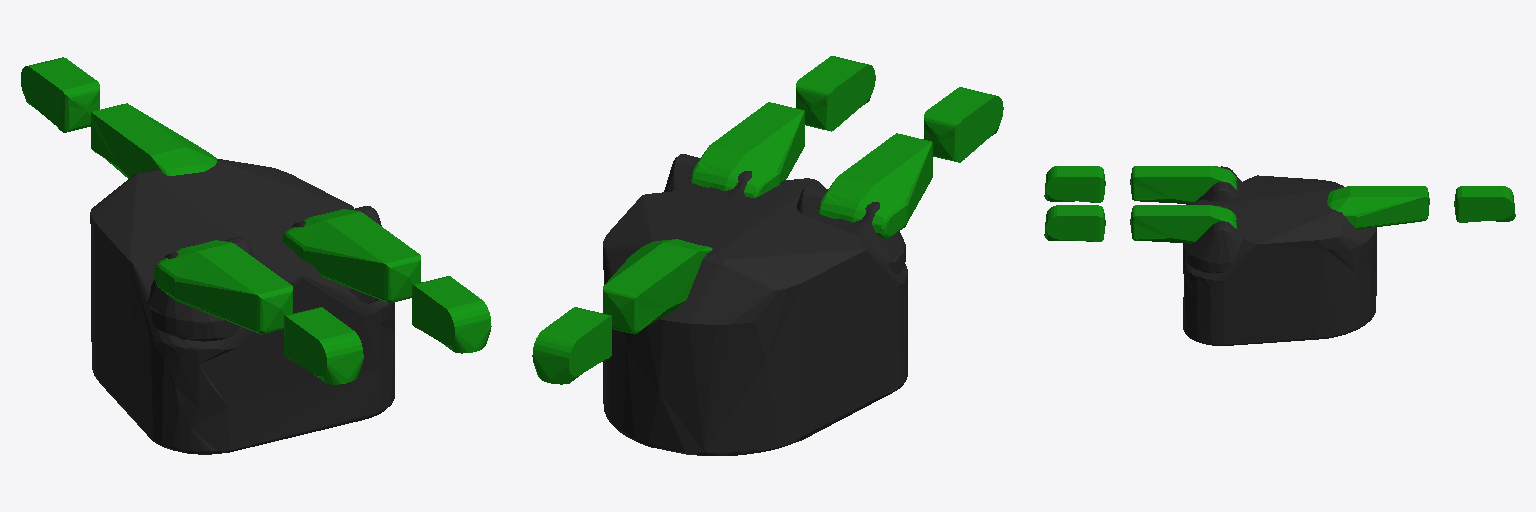
URDF robot description (irobot_hand_left):
<?xml version="1.0" ?>
<!-- =================================================================================== -->
<!-- |    This document was autogenerated by xacro from irobot_hand_drake_left.urdf.xacro | -->
<!-- |    EDITING THIS FILE BY HAND IS NOT RECOMMENDED                                 | -->
<!-- =================================================================================== -->
<robot name="irobot_hand_left" xmlns:controller="http://playerstage.sourceforge.net/gazebo/xmlschema/#controller" xmlns:interface="http://playerstage.sourceforge.net/gazebo/xmlschema/#interface" xmlns:sensor="http://playerstage.sourceforge.net/gazebo/xmlschema/#sensor" xmlns:xacro="http://www.ros.org/wiki/xacro">
  <!--  <include filename="$(find handle_description)/src/irobot_hand_simple.urdf.xacro" />-->
  <link name="base">
    <inertial>
      <mass value="0.1"/>
      <origin rpy="0 0 0" xyz="0 0 0.25"/>
      <inertia ixx="0.01" ixy="0" ixz="0" iyy="0.01" iyz="0" izz="0.01"/>
    </inertial>
  </link>
  <joint name="left_finger[0]/joint_flex" type="revolute">
    <parent link="left_finger[0]/proximal_link"/>
    <child link="left_finger[0]/distal_link"/>
    <origin xyz="0 0 0.078"/>
    <axis xyz="-1 0 0"/>
    <limit effort="1000.0" lower="0.0" upper="1.57" velocity="0.5"/>
  </joint>
  <joint name="left_finger[1]/joint_flex" type="revolute">
    <parent link="left_finger[1]/proximal_link"/>
    <child link="left_finger[1]/distal_link"/>
    <origin xyz="0 0 0.078"/>
    <axis xyz="-1 0 0"/>
    <limit effort="1000.0" lower="0.0" upper="1.57" velocity="0.5"/>
  </joint>
  <joint name="left_finger[2]/joint_flex" type="revolute">
    <parent link="left_finger[2]/proximal_link"/>
    <child link="left_finger[2]/distal_link"/>
    <origin xyz="0 0 0.078"/>
    <axis xyz="-1 0 0"/>
    <limit effort="1000.0" lower="0.0" upper="1.57" velocity="0.5"/>
  </joint>
  <joint name="left_irobot_hand_joint" type="fixed">
    <origin rpy="0 0 3.14159" xyz="0 0.05 0"/>
    <parent link="base"/>
    <child link="left_base_link"/>
  </joint>
  <link name="left_base_link">
    <inertial>
      <mass value="0.1"/>
      <origin xyz="0 0 0"/>
      <inertia ixx="0.001" ixy="0.0" ixz="0.0" iyy="0.001" iyz="0.0" izz="0.001"/>
    </inertial>
    <!--    <collision>-->
    <!--      <geometry>-->
    <!--        <mesh filename="package://handle_description/meshes/palm.stl"/>-->
    <!--      </geometry>-->
    <!--      <origin rpy="0 0 0" xyz="0 -0.038 -0.023"/>-->
    <!--    </collision>-->
    <collision>
      <origin rpy="0 0 0" xyz="0.0 0.012 0.083"/>
      <geometry>
        <sphere radius="0"/>
      </geometry>
    </collision>
    <collision>
      <origin rpy="0 0 0" xyz="0.0 -0.005 0.083"/>
      <geometry>
        <sphere radius="0"/>
      </geometry>
    </collision>
    <visual>
      <geometry>
        <mesh filename="package://handle_description/meshes/palm.stl"/>
      </geometry>
      <material name="darkgray">
        <color rgba="0.2 0.2 0.2 1"/>
      </material>
      <origin rpy="0 0 0" xyz="0 -0.038 -0.023"/>
    </visual>
  </link>
  <link name="left_finger[0]/base_rotation_link">
    <inertial>
      <mass value="0.1"/>
      <origin xyz="0 0 0"/>
      <inertia ixx="0.001" ixy="0.0" ixz="0.0" iyy="0.001" iyz="0.0" izz="0.001"/>
    </inertial>
    <!--    <collision>-->
    <!--      <geometry>-->
    <!--        <mesh filename="package://handle_description/meshes/finger_base.stl"/>-->
    <!--      </geometry>-->
    <!--      <origin rpy="${pi/2} 0 0" xyz="0 0 0"/>-->
    <!--    </collision>-->
    <visual>
      <geometry>
        <mesh filename="package://handle_description/meshes/finger_base.stl"/>
      </geometry>
      <material name="darkgray">
        <color rgba="0.2 0.2 0.2 1"/>
      </material>
      <origin rpy="1.57 0 0" xyz="0 0 0"/>
    </visual>
  </link>
  <link name="left_finger[0]/proximal_link">
    <inertial>
      <mass value="0.1"/>
      <origin xyz="0 0 0"/>
      <inertia ixx="0.001" ixy="0.0" ixz="0.0" iyy="0.001" iyz="0.0" izz="0.001"/>
    </inertial>
    <!--    <collision>-->
    <!--      <geometry>-->
    <!--        <mesh filename="package://handle_description/meshes/finger_proximal.stl"/>-->
    <!--      </geometry>-->
    <!--      <origin rpy="${pi/2} -${pi/2} 0" xyz="0 0 0"/>-->
    <!--    </collision>-->
    <collision>
      <origin rpy="0 0 0" xyz="0.0 0.01 0.034"/>
      <geometry>
        <sphere radius="0"/>
      </geometry>
    </collision>
    <collision>
      <origin rpy="0 0 0" xyz="0.0 0.01 0.051"/>
      <geometry>
        <sphere radius="0"/>
      </geometry>
    </collision>
    <visual>
      <geometry>
        <mesh filename="package://handle_description/meshes/finger_proximal.stl"/>
      </geometry>
      <material name="green">
        <color rgba="0.1 0.6 0.1 1"/>
      </material>
      <origin rpy="1.57 -1.57 0" xyz="0 0 0"/>
    </visual>
  </link>
  <link name="left_finger[0]/distal_link">
    <inertial>
      <mass value="0.1"/>
      <origin xyz="0 0 0"/>
      <inertia ixx="0.001" ixy="0.0" ixz="0.0" iyy="0.001" iyz="0.0" izz="0.001"/>
    </inertial>
    <!--    <collision>-->
    <!--      <geometry>-->
    <!--        <mesh filename="package://handle_description/meshes/finger_distal.stl"/>-->
    <!--      </geometry>-->
    <!--      <origin rpy="0 ${pi} 0" xyz="0 0 0"/>-->
    <!--    </collision>-->
    <collision>
      <origin rpy="0 0 0" xyz="0.0 0.01 0.02"/>
      <geometry>
        <sphere radius="0"/>
      </geometry>
    </collision>
    <visual>
      <geometry>
        <mesh filename="package://handle_description/meshes/finger_distal.stl"/>
      </geometry>
      <material name="green">
        <color rgba="0.1 0.6 0.1 1"/>
      </material>
      <origin rpy="0 3.14 0" xyz="0 0 0"/>
    </visual>
  </link>
  <link name="left_finger[1]/base_rotation_link">
    <inertial>
      <mass value="0.1"/>
      <origin xyz="0 0 0"/>
      <inertia ixx="0.001" ixy="0.0" ixz="0.0" iyy="0.001" iyz="0.0" izz="0.001"/>
    </inertial>
    <!--    <collision>-->
    <!--      <geometry>-->
    <!--        <mesh filename="package://handle_description/meshes/finger_base.stl"/>-->
    <!--      </geometry>-->
    <!--      <origin rpy="${pi/2} 0 0" xyz="0 0 0"/>-->
    <!--    </collision>-->
    <visual>
      <geometry>
        <mesh filename="package://handle_description/meshes/finger_base.stl"/>
      </geometry>
      <material name="darkgray">
        <color rgba="0.2 0.2 0.2 1"/>
      </material>
      <origin rpy="1.57 0 0" xyz="0 0 0"/>
    </visual>
  </link>
  <link name="left_finger[1]/proximal_link">
    <inertial>
      <mass value="0.1"/>
      <origin xyz="0 0 0"/>
      <inertia ixx="0.001" ixy="0.0" ixz="0.0" iyy="0.001" iyz="0.0" izz="0.001"/>
    </inertial>
    <!--    <collision>-->
    <!--      <geometry>-->
    <!--        <mesh filename="package://handle_description/meshes/finger_proximal.stl"/>-->
    <!--      </geometry>-->
    <!--      <origin rpy="${pi/2} -${pi/2} 0" xyz="0 0 0"/>-->
    <!--    </collision>-->
    <collision>
      <origin rpy="0 0 0" xyz="0.0 0.01 0.034"/>
      <geometry>
        <sphere radius="0"/>
      </geometry>
    </collision>
    <collision>
      <origin rpy="0 0 0" xyz="0.0 0.01 0.051"/>
      <geometry>
        <sphere radius="0"/>
      </geometry>
    </collision>
    <visual>
      <geometry>
        <mesh filename="package://handle_description/meshes/finger_proximal.stl"/>
      </geometry>
      <material name="green">
        <color rgba="0.1 0.6 0.1 1"/>
      </material>
      <origin rpy="1.57 -1.57 0" xyz="0 0 0"/>
    </visual>
  </link>
  <link name="left_finger[1]/distal_link">
    <inertial>
      <mass value="0.1"/>
      <origin xyz="0 0 0"/>
      <inertia ixx="0.001" ixy="0.0" ixz="0.0" iyy="0.001" iyz="0.0" izz="0.001"/>
    </inertial>
    <!--    <collision>-->
    <!--      <geometry>-->
    <!--        <mesh filename="package://handle_description/meshes/finger_distal.stl"/>-->
    <!--      </geometry>-->
    <!--      <origin rpy="0 ${pi} 0" xyz="0 0 0"/>-->
    <!--    </collision>-->
    <collision>
      <origin rpy="0 0 0" xyz="0.0 0.01 0.02"/>
      <geometry>
        <sphere radius="0"/>
      </geometry>
    </collision>
    <visual>
      <geometry>
        <mesh filename="package://handle_description/meshes/finger_distal.stl"/>
      </geometry>
      <material name="green">
        <color rgba="0.1 0.6 0.1 1"/>
      </material>
      <origin rpy="0 3.14 0" xyz="0 0 0"/>
    </visual>
  </link>
  <link name="left_finger[2]/proximal_link">
    <inertial>
      <mass value="0.1"/>
      <origin xyz="0 0 0"/>
      <inertia ixx="0.001" ixy="0.0" ixz="0.0" iyy="0.001" iyz="0.0" izz="0.001"/>
    </inertial>
    <!--    <collision>-->
    <!--      <geometry>-->
    <!--        <mesh filename="package://handle_description/meshes/finger_proximal.stl"/>-->
    <!--      </geometry>-->
    <!--      <origin rpy="${pi/2} -${pi/2} 0" xyz="0 0 0"/>-->
    <!--    </collision>-->
    <collision>
      <origin rpy="0 0 0" xyz="0.0 0.01 0.034"/>
      <geometry>
        <sphere radius="0"/>
      </geometry>
    </collision>
    <collision>
      <origin rpy="0 0 0" xyz="0.0 0.01 0.051"/>
      <geometry>
        <sphere radius="0"/>
      </geometry>
    </collision>
    <visual>
      <geometry>
        <mesh filename="package://handle_description/meshes/finger_proximal.stl"/>
      </geometry>
      <material name="green">
        <color rgba="0.1 0.6 0.1 1"/>
      </material>
      <origin rpy="1.57 -1.57 0" xyz="0 0 0"/>
    </visual>
  </link>
  <link name="left_finger[2]/distal_link">
    <inertial>
      <mass value="0.1"/>
      <origin xyz="0 0 0"/>
      <inertia ixx="0.001" ixy="0.0" ixz="0.0" iyy="0.001" iyz="0.0" izz="0.001"/>
    </inertial>
    <!--    <collision>-->
    <!--      <geometry>-->
    <!--        <mesh filename="package://handle_description/meshes/finger_distal.stl"/>-->
    <!--      </geometry>-->
    <!--      <origin rpy="0 ${pi} 0" xyz="0 0 0"/>-->
    <!--    </collision>-->
    <collision>
      <origin rpy="0 0 0" xyz="0.0 0.01 0.02"/>
      <geometry>
        <sphere radius="0"/>
      </geometry>
    </collision>
    <visual>
      <geometry>
        <mesh filename="package://handle_description/meshes/finger_distal.stl"/>
      </geometry>
      <material name="green">
        <color rgba="0.1 0.6 0.1 1"/>
      </material>
      <origin rpy="0 3.14 0" xyz="0 0 0"/>
    </visual>
  </link>
  <joint name="left_finger[0]/joint_base_rotation" type="revolute">
    <parent link="left_base_link"/>
    <child link="left_finger[0]/base_rotation_link"/>
    <origin rpy="0 0 0" xyz="0.03075 0.038 0.069477"/>
    <axis xyz="0 0 -1"/>
    <limit effort="1000.0" lower="0.0" upper="1.57" velocity="0.5"/>
  </joint>
  <joint name="left_finger[0]/joint_base" type="revolute">
    <parent link="left_finger[0]/base_rotation_link"/>
    <child link="left_finger[0]/proximal_link"/>
    <origin rpy="1.57 0 -3.14" xyz="0 0 0.0135"/>
    <axis xyz="-1 0 0"/>
    <limit effort="1000.0" lower="0.0" upper="1.57" velocity="0.5"/>
  </joint>
  <joint name="left_finger[1]/joint_base_rotation" type="revolute">
    <parent link="left_base_link"/>
    <child link="left_finger[1]/base_rotation_link"/>
    <origin rpy="0 0 0" xyz="-0.03075 0.038 0.069477"/>
    <axis xyz="0 0 1"/>
    <limit effort="1000.0" lower="0.0" upper="1.57" velocity="0.5"/>
  </joint>
  <joint name="left_finger[1]/joint_base" type="revolute">
    <parent link="left_finger[1]/base_rotation_link"/>
    <child link="left_finger[1]/proximal_link"/>
    <origin rpy="1.57 0 -3.14" xyz="0 0 0.0135"/>
    <axis xyz="-1 0 0"/>
    <limit effort="1000.0" lower="0.0" upper="1.57" velocity="0.5"/>
  </joint>
  <joint name="left_finger[2]/joint_base" type="revolute">
    <parent link="left_base_link"/>
    <child link="left_finger[2]/proximal_link"/>
    <origin rpy="1.57 0 0" xyz="0 -0.038 0.082755"/>
    <axis xyz="-1 0 0"/>
    <limit effort="1000.0" lower="0.0" upper="1.57" velocity="0.5"/>
  </joint>
</robot>

--- What the picture shows (computed from the rendered views, not written in the file) ---
The picture shows the robot from 3 angles, left to right: view 1: azimuth 30°, elevation 25°; view 2: azimuth 150°, elevation 25°; view 3: azimuth 270°, elevation 25°; orthographic projection.
Robot: irobot_hand_left — 10 links, 9 joints (8 revolute, 1 fixed); root link base; default pose: all joints at 0.
Visible links, largest first — view 1: left_base_link, left_finger[0]/proximal_link, left_finger[1]/proximal_link, left_finger[2]/proximal_link, left_finger[0]/distal_link, left_finger[1]/distal_link, left_finger[2]/distal_link, left_finger[0]/base_rotation_link; view 2: left_base_link, left_finger[0]/proximal_link, left_finger[1]/proximal_link, left_finger[2]/proximal_link, left_finger[2]/distal_link, left_finger[1]/distal_link, left_finger[0]/distal_link, left_finger[0]/base_rotation_link, left_finger[1]/base_rotation_link; view 3: left_base_link, left_finger[2]/proximal_link, left_finger[1]/proximal_link, left_finger[0]/proximal_link, left_finger[1]/base_rotation_link, left_finger[1]/distal_link, left_finger[0]/distal_link, left_finger[2]/distal_link, left_finger[0]/base_rotation_link.
Boxes of the visible links, x1,y1,x2,y2 form: left_base_link: (90,159,394,454); left_finger[0]/proximal_link: (154,240,292,334); left_finger[1]/proximal_link: (282,209,420,302); left_finger[2]/proximal_link: (91,103,216,178); left_finger[0]/distal_link: (284,307,363,384); left_finger[1]/distal_link: (412,276,491,353); left_finger[2]/distal_link: (21,57,99,132); left_finger[0]/base_rotation_link: (148,237,253,341); left_base_link: (603,178,907,455); left_finger[0]/proximal_link: (818,133,932,238); left_finger[1]/proximal_link: (691,102,804,197); left_finger[2]/proximal_link: (603,239,712,334); left_finger[2]/distal_link: (532,307,611,384); left_finger[1]/distal_link: (796,56,875,131); left_finger[0]/distal_link: (924,87,1003,162); left_finger[0]/base_rotation_link: (797,185,905,273); left_finger[1]/base_rotation_link: (664,154,751,198); left_base_link: (1183,175,1376,345); left_finger[2]/proximal_link: (1327,186,1429,229); left_finger[1]/proximal_link: (1130,205,1236,243); left_finger[0]/proximal_link: (1130,166,1236,203); left_finger[1]/base_rotation_link: (1185,206,1241,273); left_finger[1]/distal_link: (1044,205,1105,241); left_finger[0]/distal_link: (1044,166,1105,202); left_finger[2]/distal_link: (1454,186,1515,222); left_finger[0]/base_rotation_link: (1186,166,1241,204).
Size in the robot's own frame: 0.1134 by 0.311 by 0.0878 metres.
Meshes: 4 distinct files referenced, 9 mesh visuals loaded (4 binary STL).
